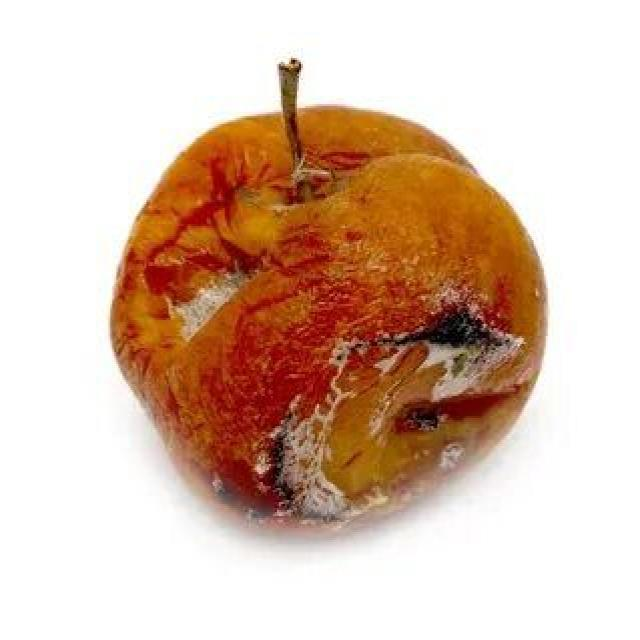Rotten: (109, 96, 548, 554)
